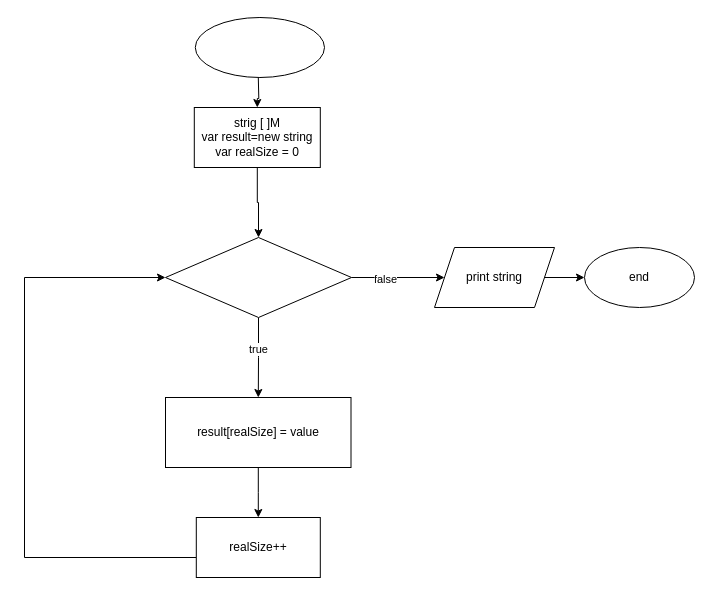
The diagram is 712 pixels wide and 595 high, and some of its shapes have lost their labels. Here are the shapes that lost their labels. From the top down, the box of each, then its label:
(194, 16, 324, 78): Start
(164, 236, 352, 318): value.Lenght<= 3
